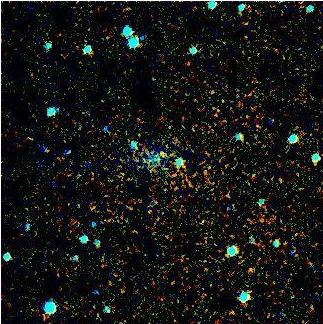star: (148, 140, 178, 170)
